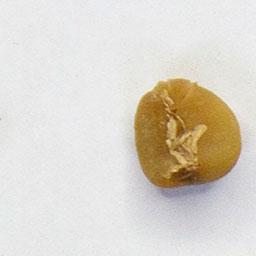defect: (130, 76, 244, 191)
